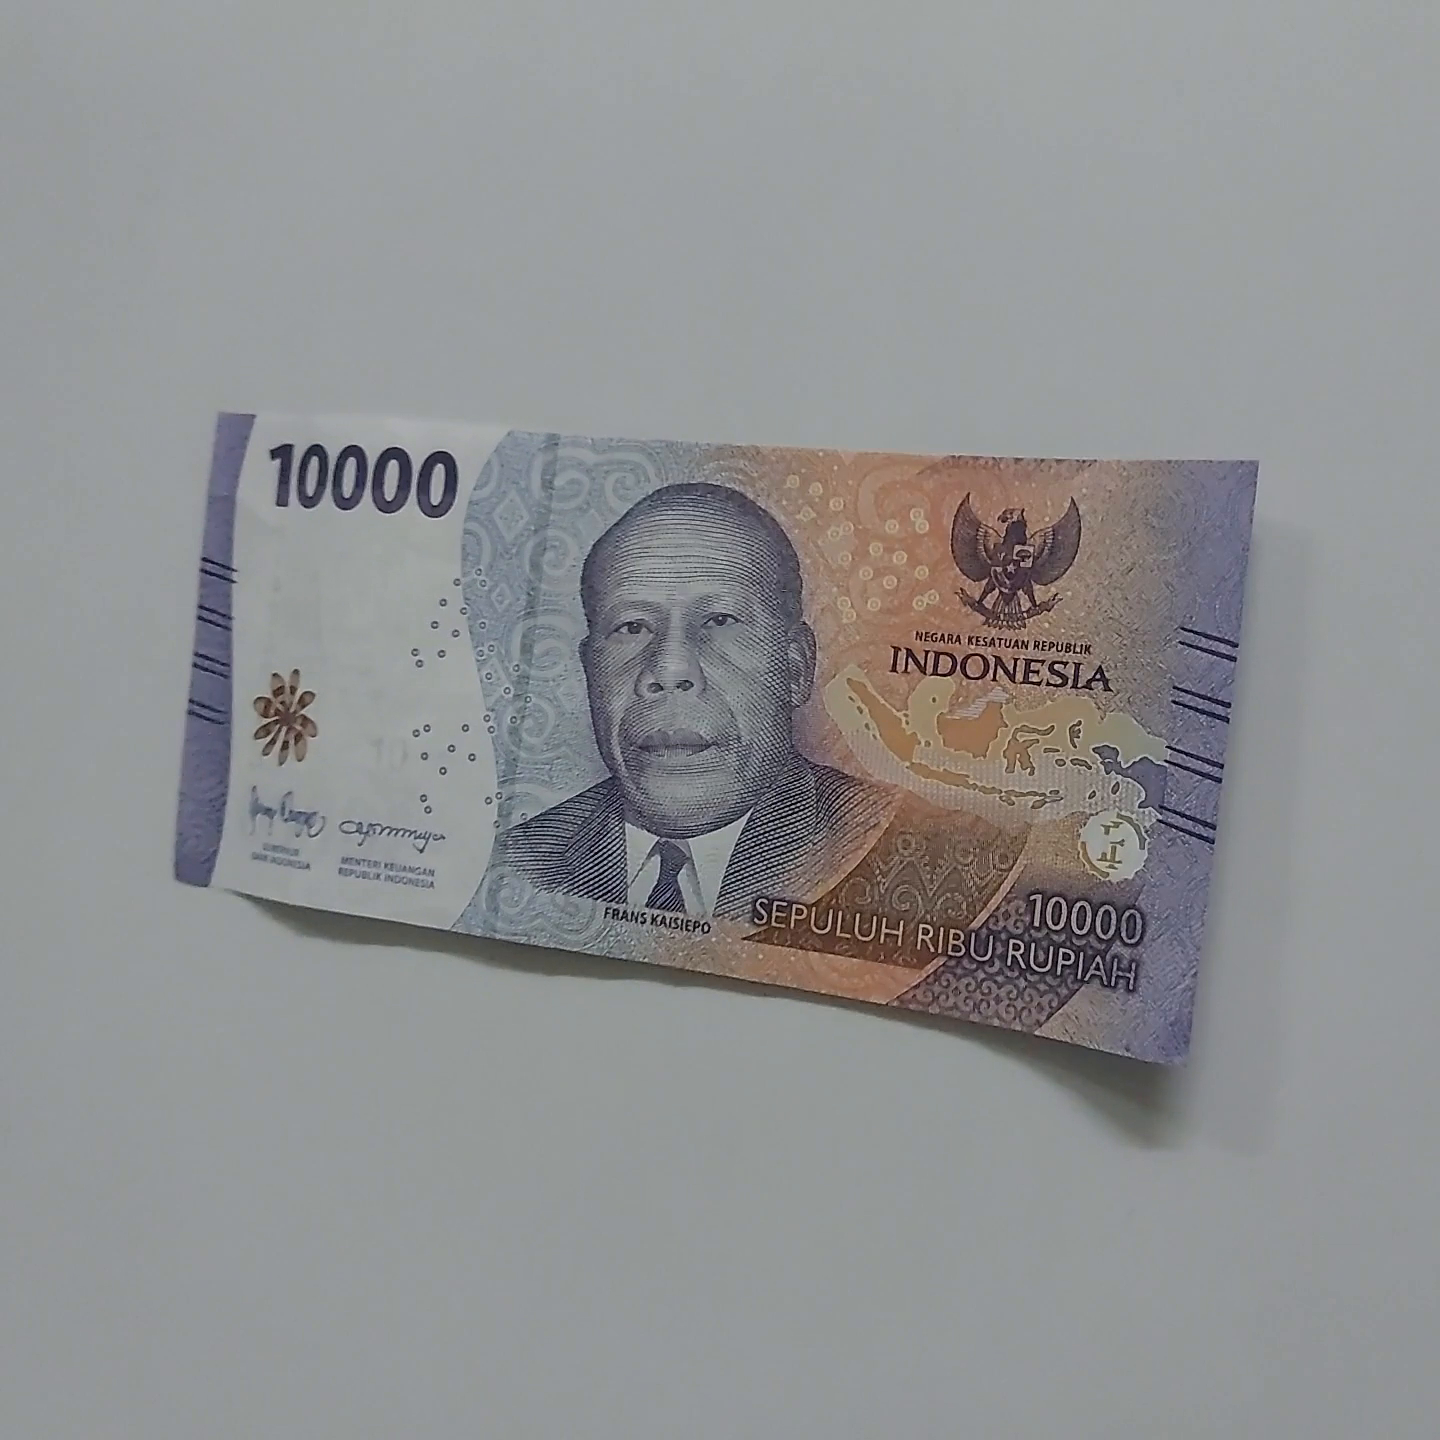10k: (166, 386, 1295, 1079)
